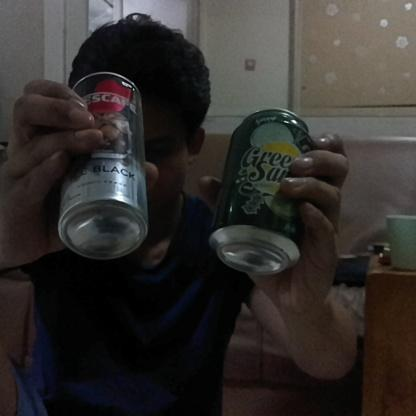alumunium_can: (206, 109, 313, 275), (58, 69, 148, 263)
